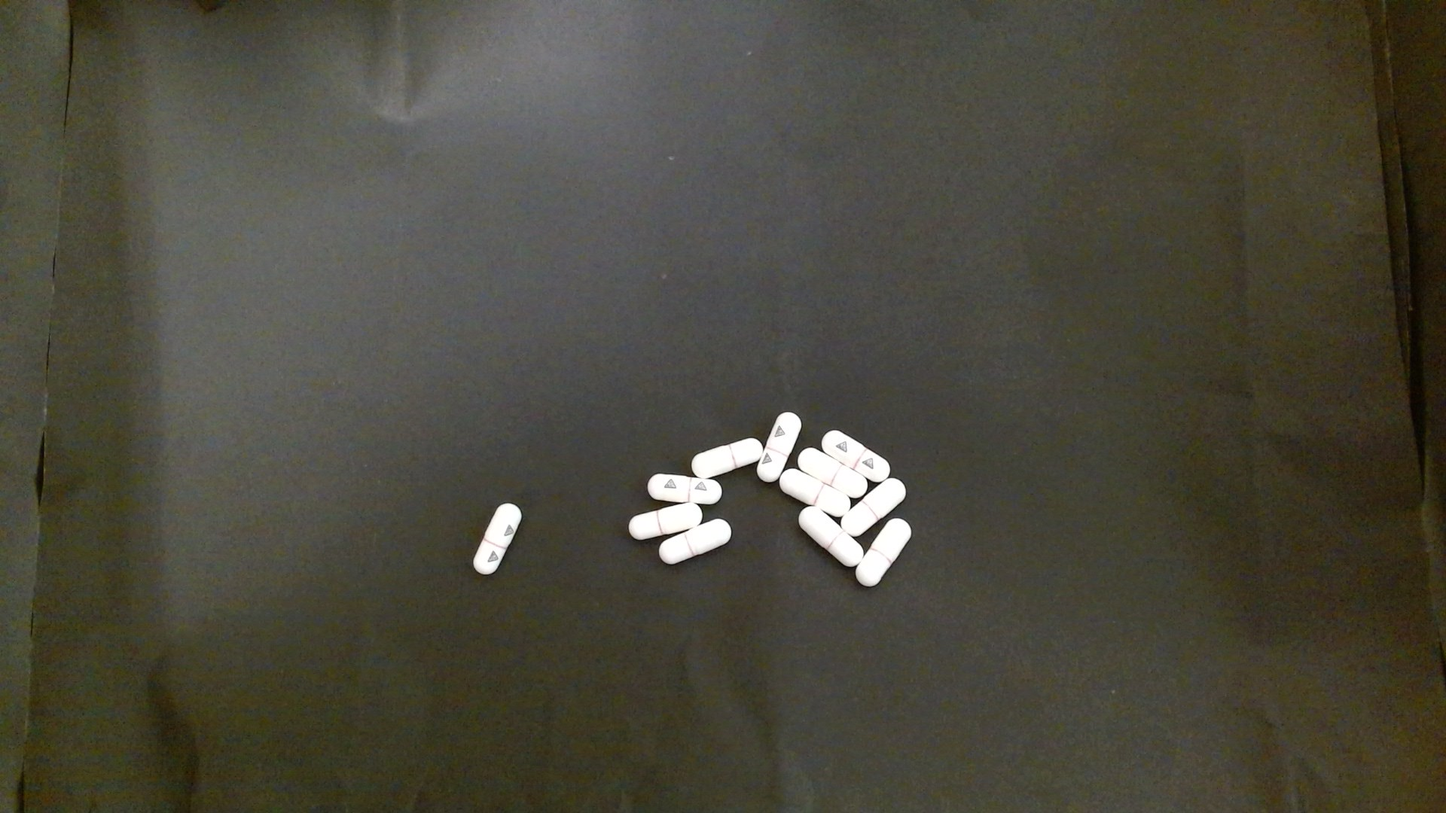Capsule: (797, 505, 862, 567), (820, 428, 891, 484), (856, 518, 911, 587), (779, 467, 850, 519), (842, 477, 905, 534), (473, 502, 522, 574), (797, 446, 868, 495), (755, 411, 802, 485), (660, 517, 731, 565), (691, 438, 764, 479), (630, 501, 706, 540), (647, 473, 721, 505)
